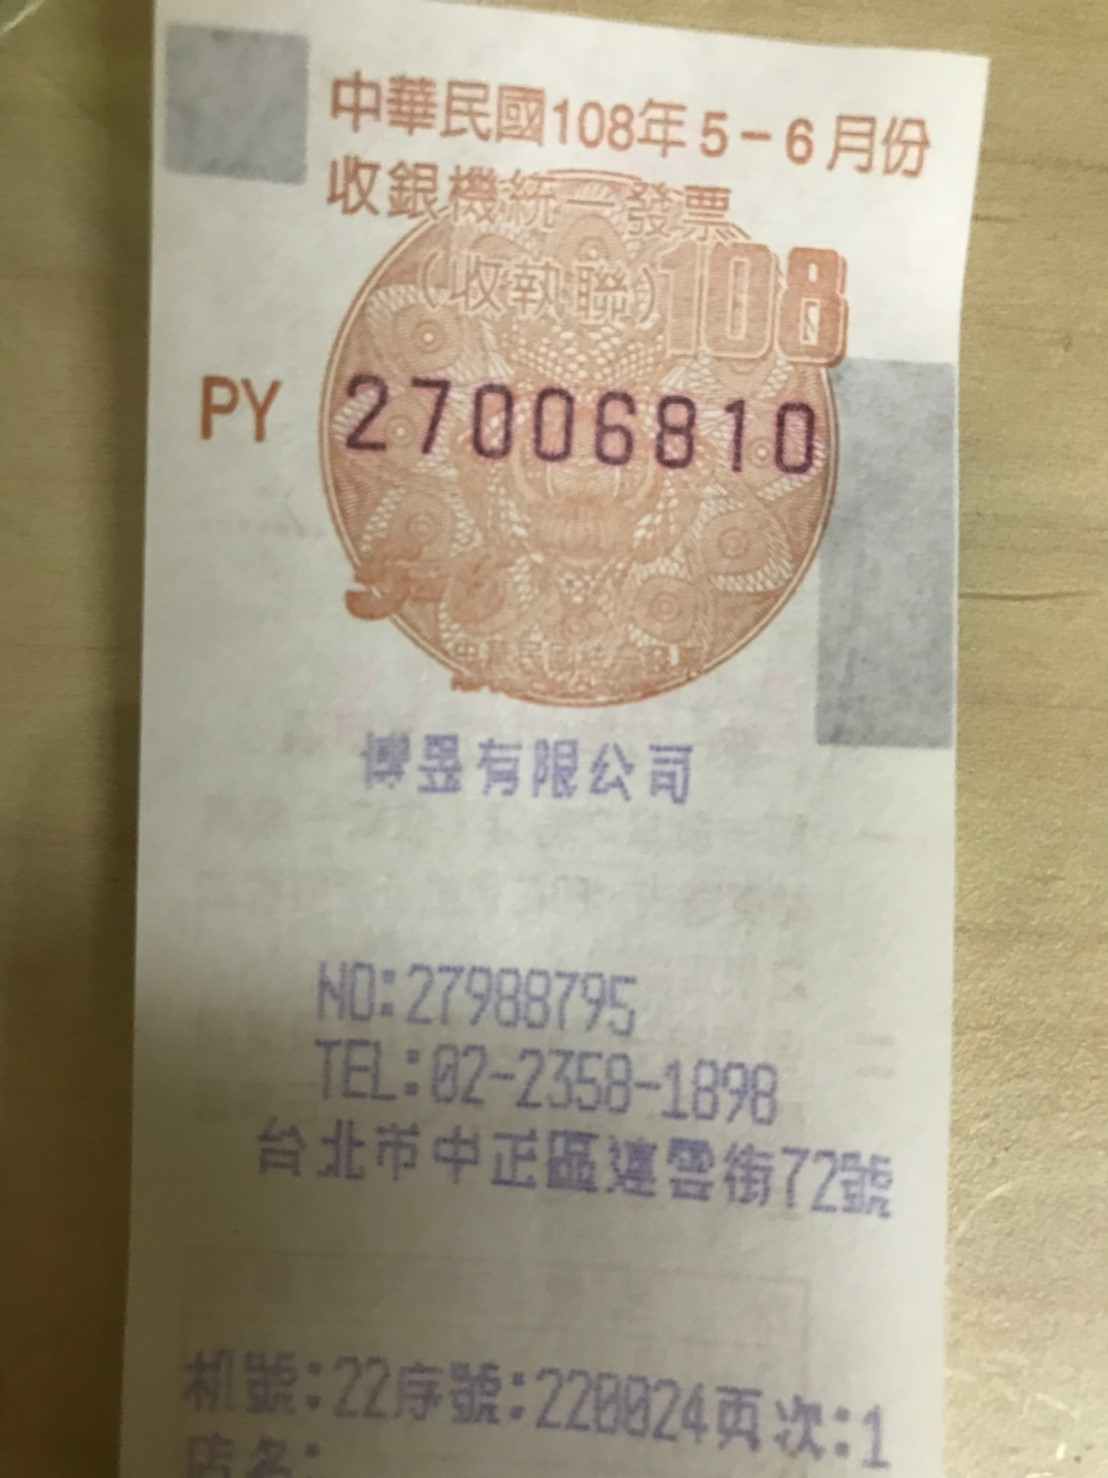Date_Old: (551, 85, 933, 184)
Number_Old: (335, 370, 818, 479)
